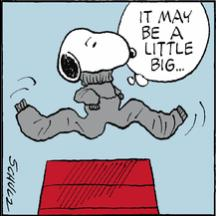snoopy: (55, 24, 136, 140)
